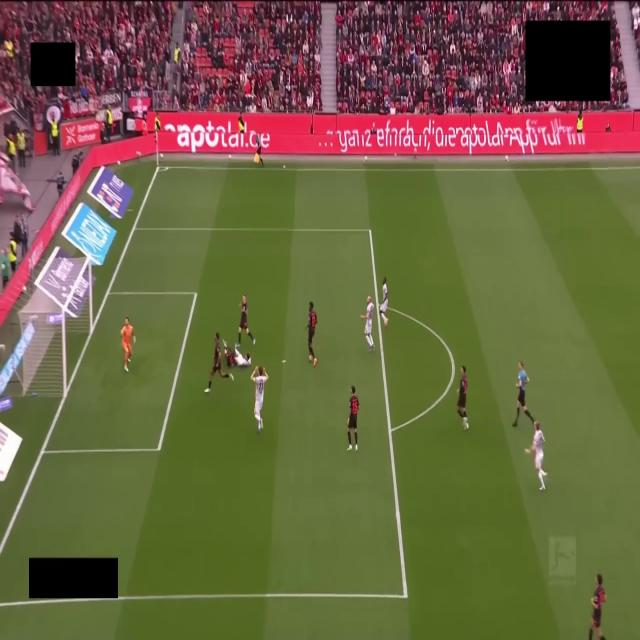player: (205, 333, 233, 393), (525, 422, 547, 490), (589, 574, 606, 639), (251, 367, 268, 431), (236, 296, 255, 348), (457, 366, 469, 430), (121, 318, 135, 372), (348, 385, 359, 451), (361, 296, 374, 351), (223, 341, 250, 367), (308, 302, 317, 367), (379, 277, 387, 327)
referee: (512, 361, 534, 426)
